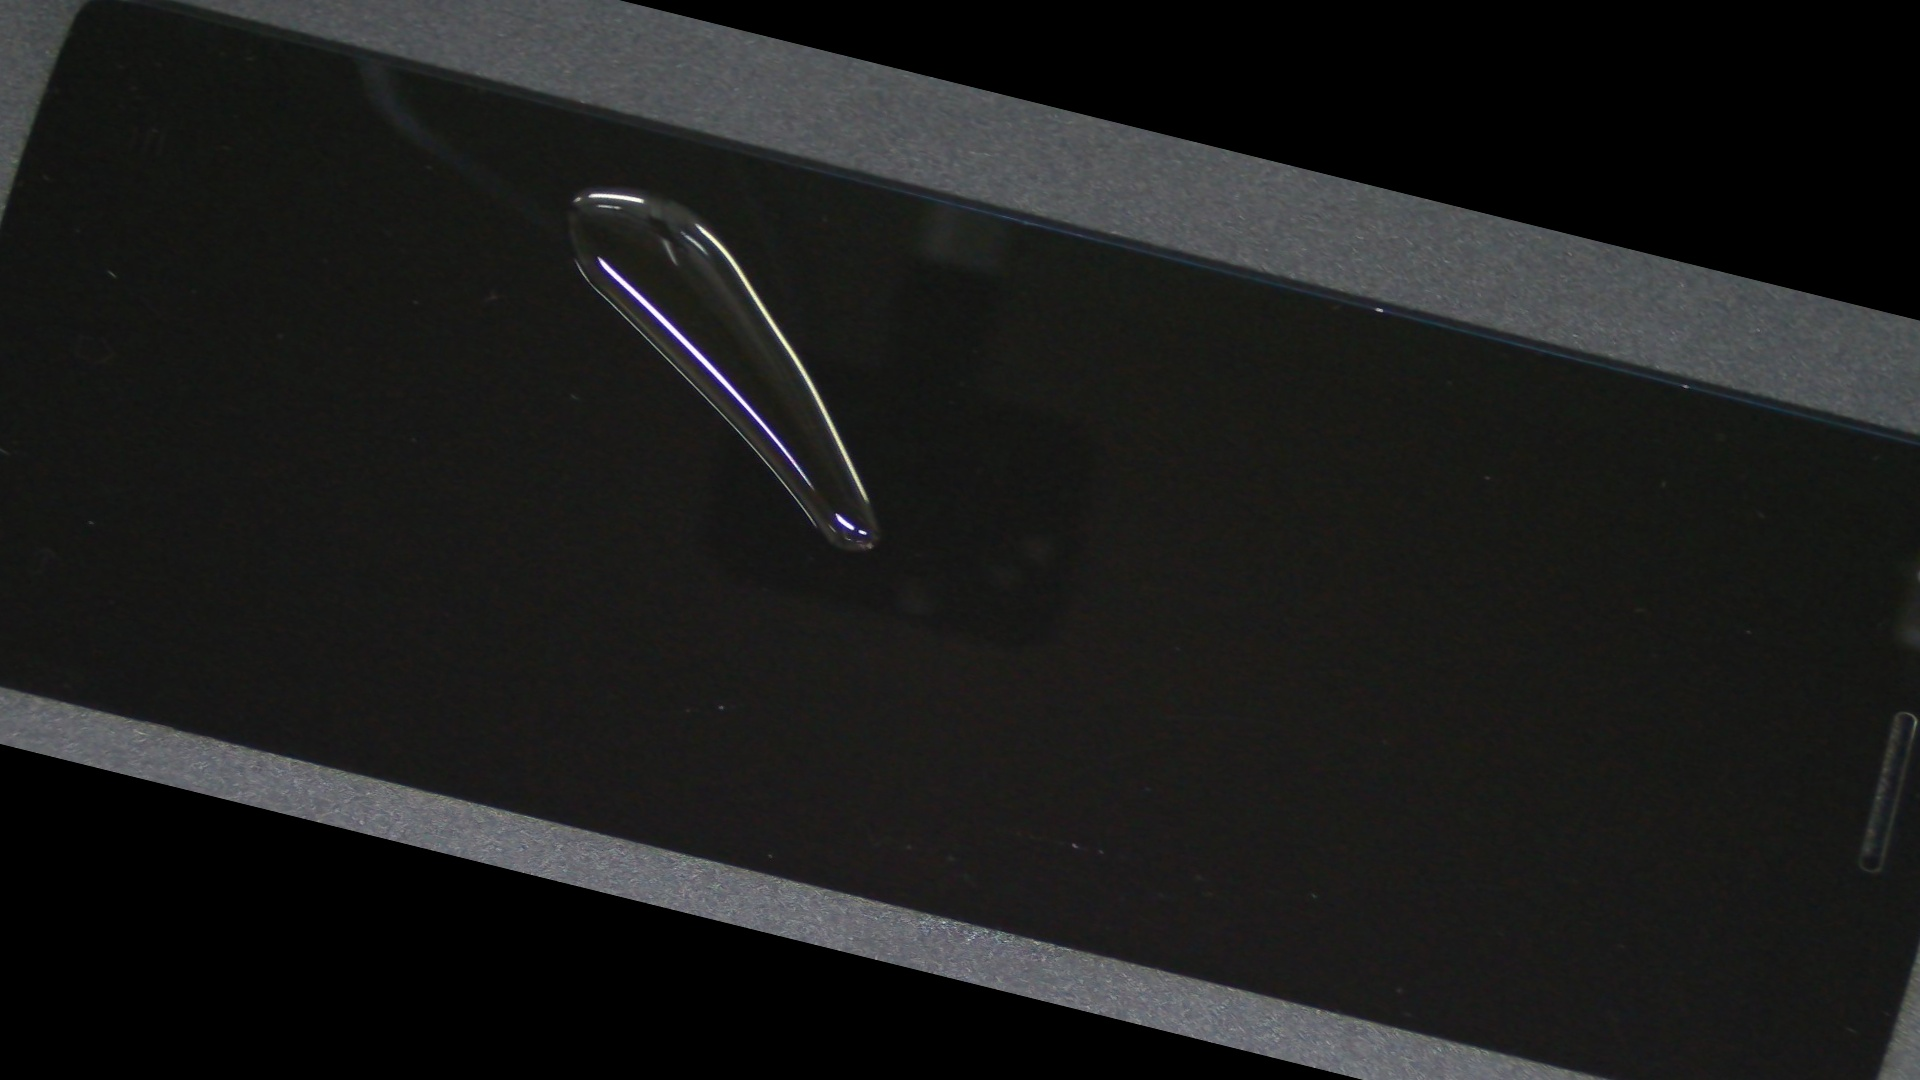oil: (282, 20, 1051, 373)
